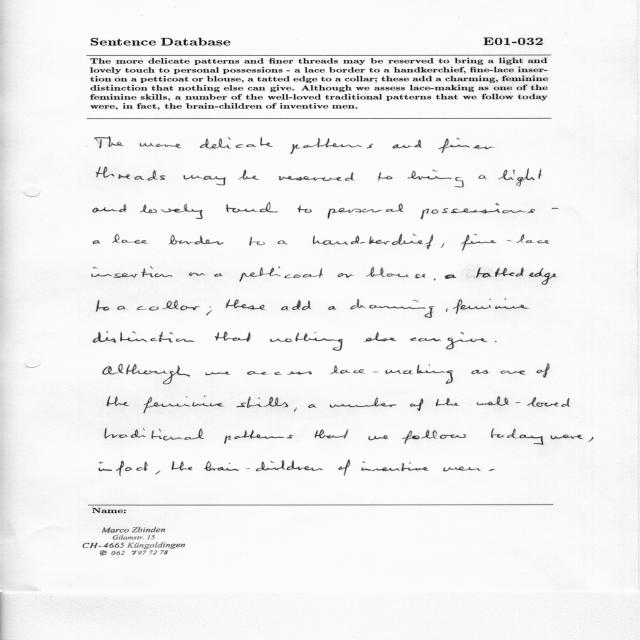word: (330, 364, 453, 384), (420, 203, 535, 219), (313, 234, 433, 249), (103, 364, 190, 384), (350, 299, 434, 318), (461, 234, 550, 251), (270, 332, 343, 351), (144, 396, 224, 413), (290, 138, 373, 154), (204, 460, 323, 471), (105, 428, 204, 441), (239, 267, 323, 282), (93, 331, 194, 343), (328, 204, 404, 219), (453, 299, 529, 314), (407, 170, 464, 188), (477, 396, 570, 407), (224, 430, 294, 444), (92, 266, 173, 278), (97, 167, 166, 181), (140, 204, 203, 219), (402, 430, 466, 444), (491, 428, 543, 445), (438, 138, 494, 153), (200, 137, 273, 148), (499, 169, 543, 187), (446, 332, 487, 349), (279, 172, 355, 181), (137, 300, 199, 311), (361, 462, 429, 472), (330, 398, 397, 408), (367, 267, 426, 278), (226, 202, 278, 213), (236, 397, 288, 408), (169, 235, 224, 245), (476, 267, 524, 278), (529, 268, 557, 285), (116, 461, 147, 476), (226, 299, 265, 310), (184, 175, 226, 185), (112, 234, 148, 244), (215, 332, 251, 342), (94, 137, 124, 148), (281, 300, 311, 311), (315, 429, 348, 439), (365, 332, 396, 342), (93, 204, 127, 213), (393, 140, 422, 149), (247, 371, 312, 375), (238, 169, 259, 180), (107, 396, 129, 406), (140, 143, 182, 148), (338, 460, 350, 476), (443, 467, 481, 472), (172, 462, 193, 471), (436, 398, 459, 406), (537, 364, 550, 378), (410, 398, 423, 411), (97, 300, 110, 312), (250, 237, 265, 246), (551, 435, 584, 439), (501, 370, 526, 375), (410, 338, 441, 342), (297, 205, 312, 213), (99, 462, 112, 471), (379, 173, 393, 181), (206, 372, 231, 376), (368, 435, 388, 440), (337, 273, 354, 278), (189, 272, 206, 276), (472, 370, 489, 374), (445, 274, 456, 279), (206, 307, 212, 316), (478, 175, 487, 180), (278, 241, 288, 245), (214, 273, 223, 277), (117, 306, 126, 310), (328, 306, 336, 310), (308, 404, 316, 408), (94, 240, 101, 244), (589, 437, 594, 442), (155, 471, 160, 475), (441, 243, 444, 248), (294, 408, 297, 412), (489, 469, 495, 471), (446, 308, 448, 312), (552, 208, 559, 209), (434, 279, 436, 281), (495, 341, 496, 342)
